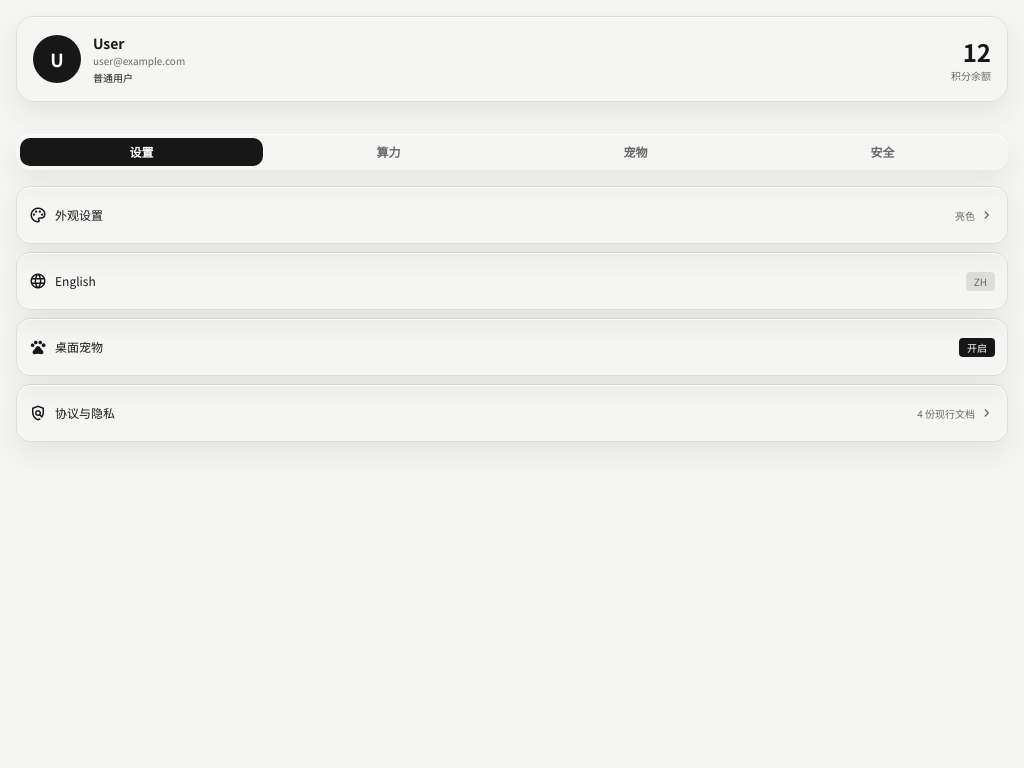
MobileProfile credit history › opens the shared appearance settings from My settings
Step 1. Click the button "外观设置 亮色" → (79, 214), box [16,186,1008,244]
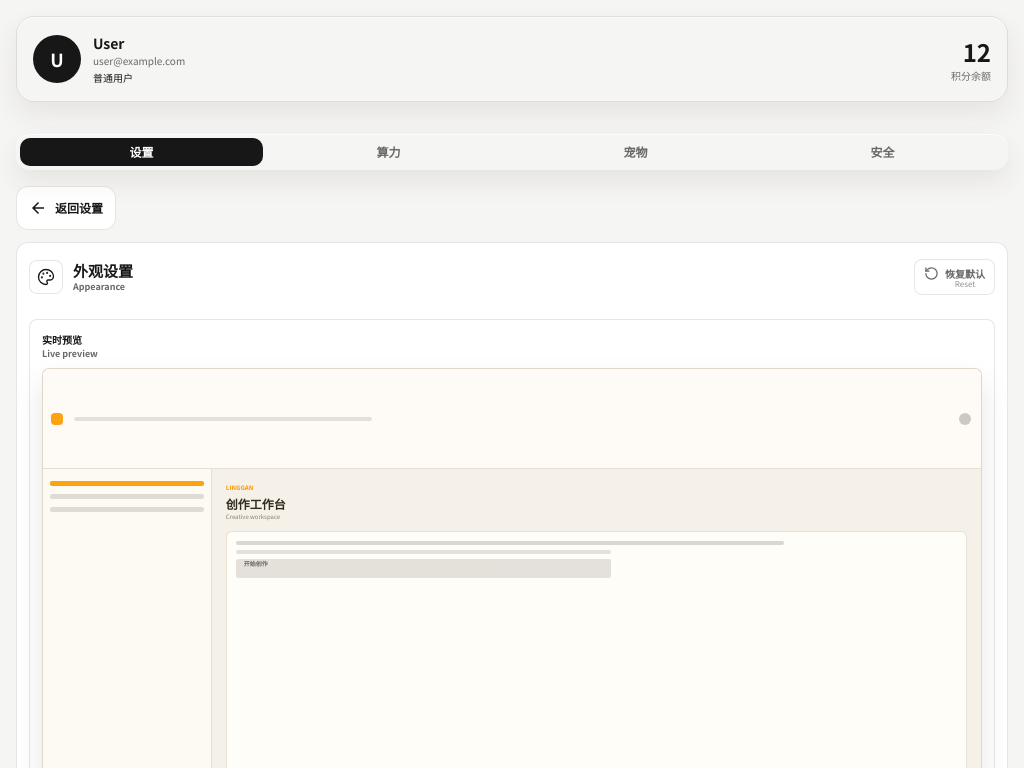
Result: the button "返回设置" is shown at [16,186,116,230]
